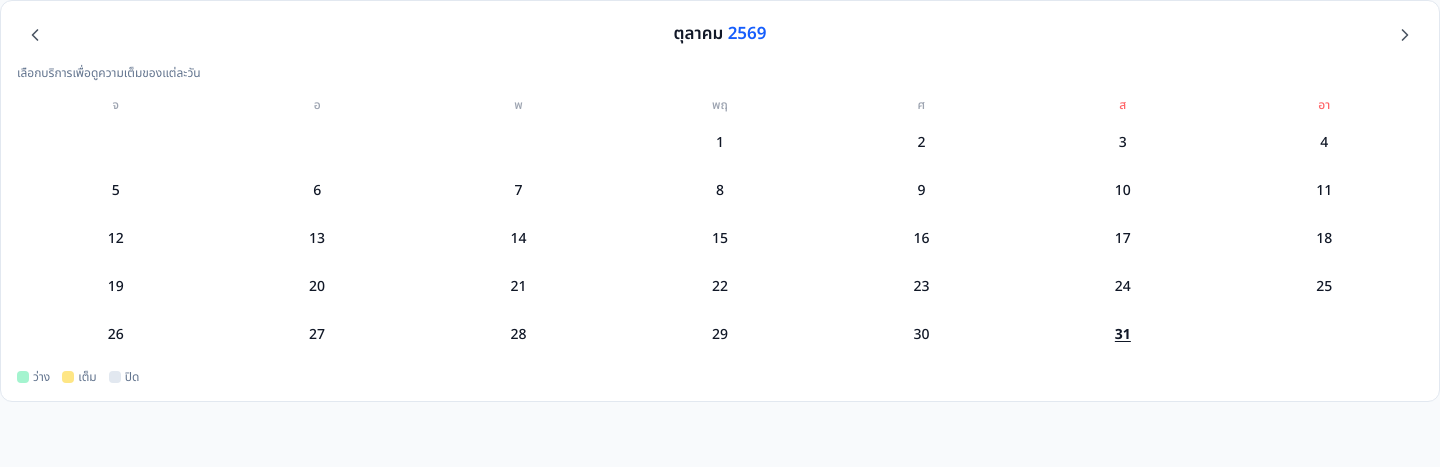
Test: BookingMonthCalendar › month navigation notifies the parent of the visible month
Click the button named "เดือนถัดไป".
click(1405, 35)  # box [1387,17,1423,53]
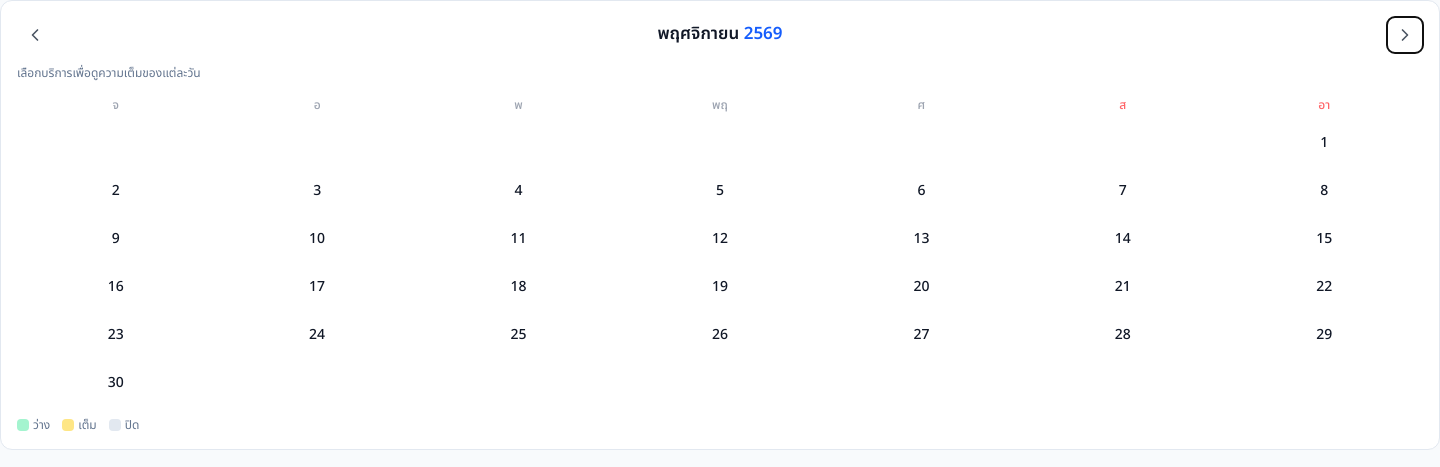
Result: the text "พฤศจิกายน 2569" is shown at [657,21,782,49]
